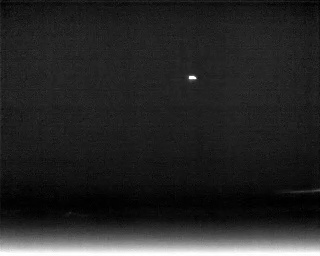AIRPLANE: (186, 72, 199, 83)
